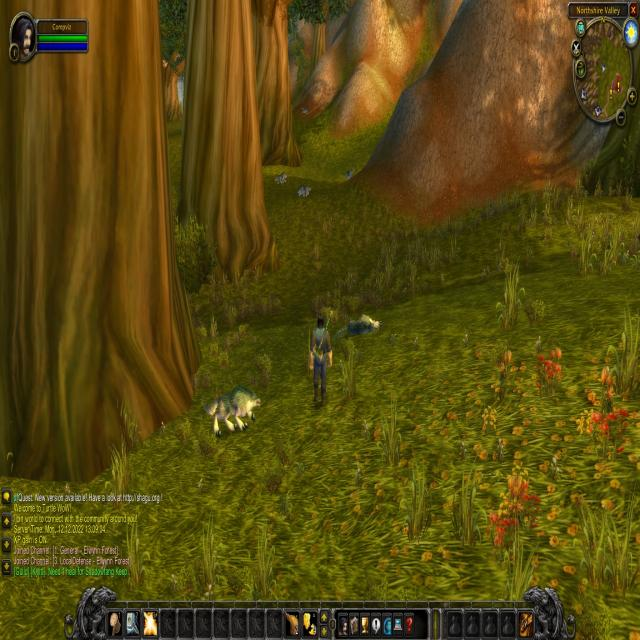wolf: (200, 381, 264, 442), (335, 308, 385, 344), (270, 166, 290, 192), (295, 178, 316, 202), (343, 165, 358, 182), (298, 101, 311, 119)
